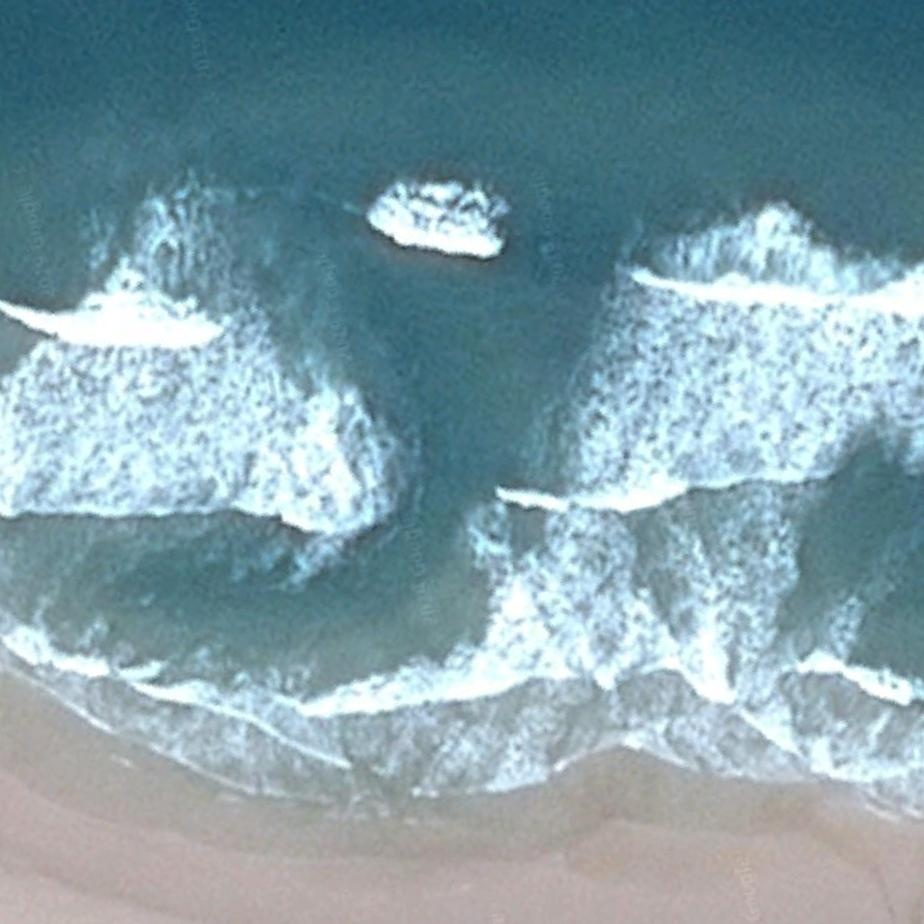rip_current: (214, 158, 656, 694)
